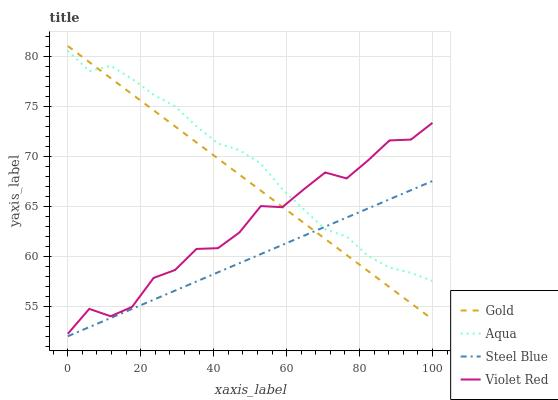axis: (55, 347, 448, 357), (43, 33, 55, 346)
legend: (449, 291, 558, 400)
line: (66, 43, 430, 319), (66, 50, 433, 282), (67, 121, 434, 335), (68, 179, 434, 338)
